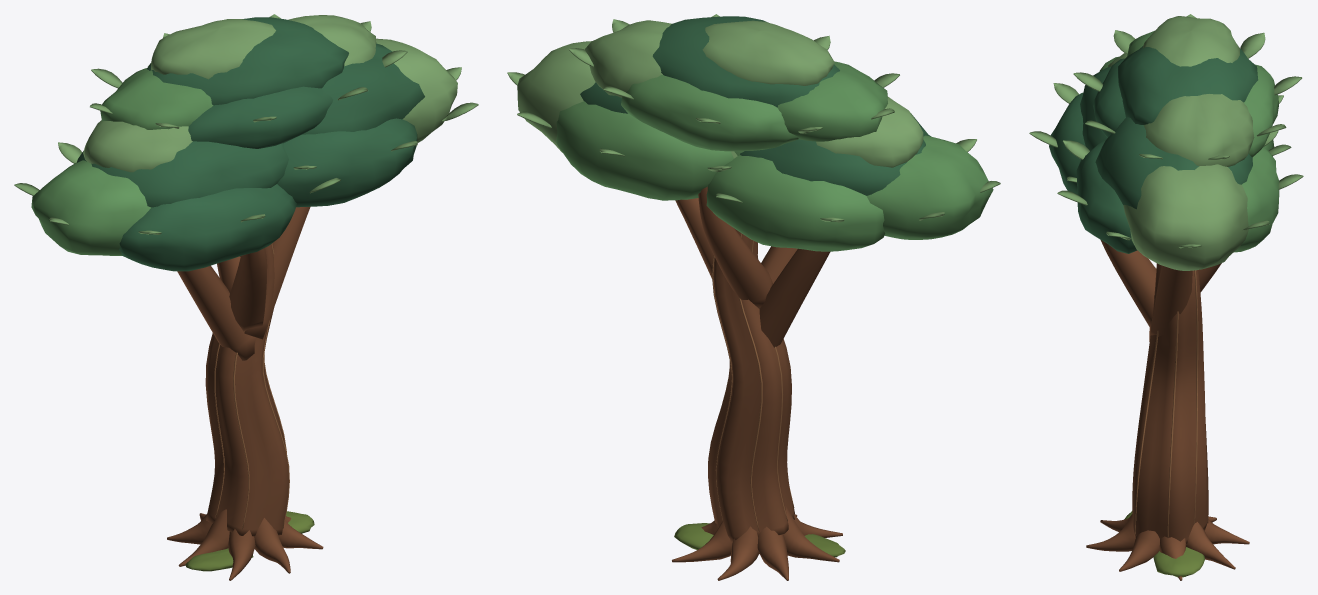
Rendered from tree.glb.
The picture shows the model from 3 angles, left to right: view 1: azimuth 30°, elevation 25°; view 2: azimuth 150°, elevation 25°; view 3: azimuth 270°, elevation 25°; orthographic projection. The views are drawn at different scales.
Parts seen in each view (by area): view 1: tree_PaintedSculpture; view 2: tree_PaintedSculpture; view 3: tree_PaintedSculpture.
Boxes of the visible parts, x1,y1,x2,y2 form: tree_PaintedSculpture: (14,14,478,580); tree_PaintedSculpture: (507,14,1000,580); tree_PaintedSculpture: (1029,14,1303,580).
Bounding box in the file's own units: 6.58 × 7.28 × 3.55.
